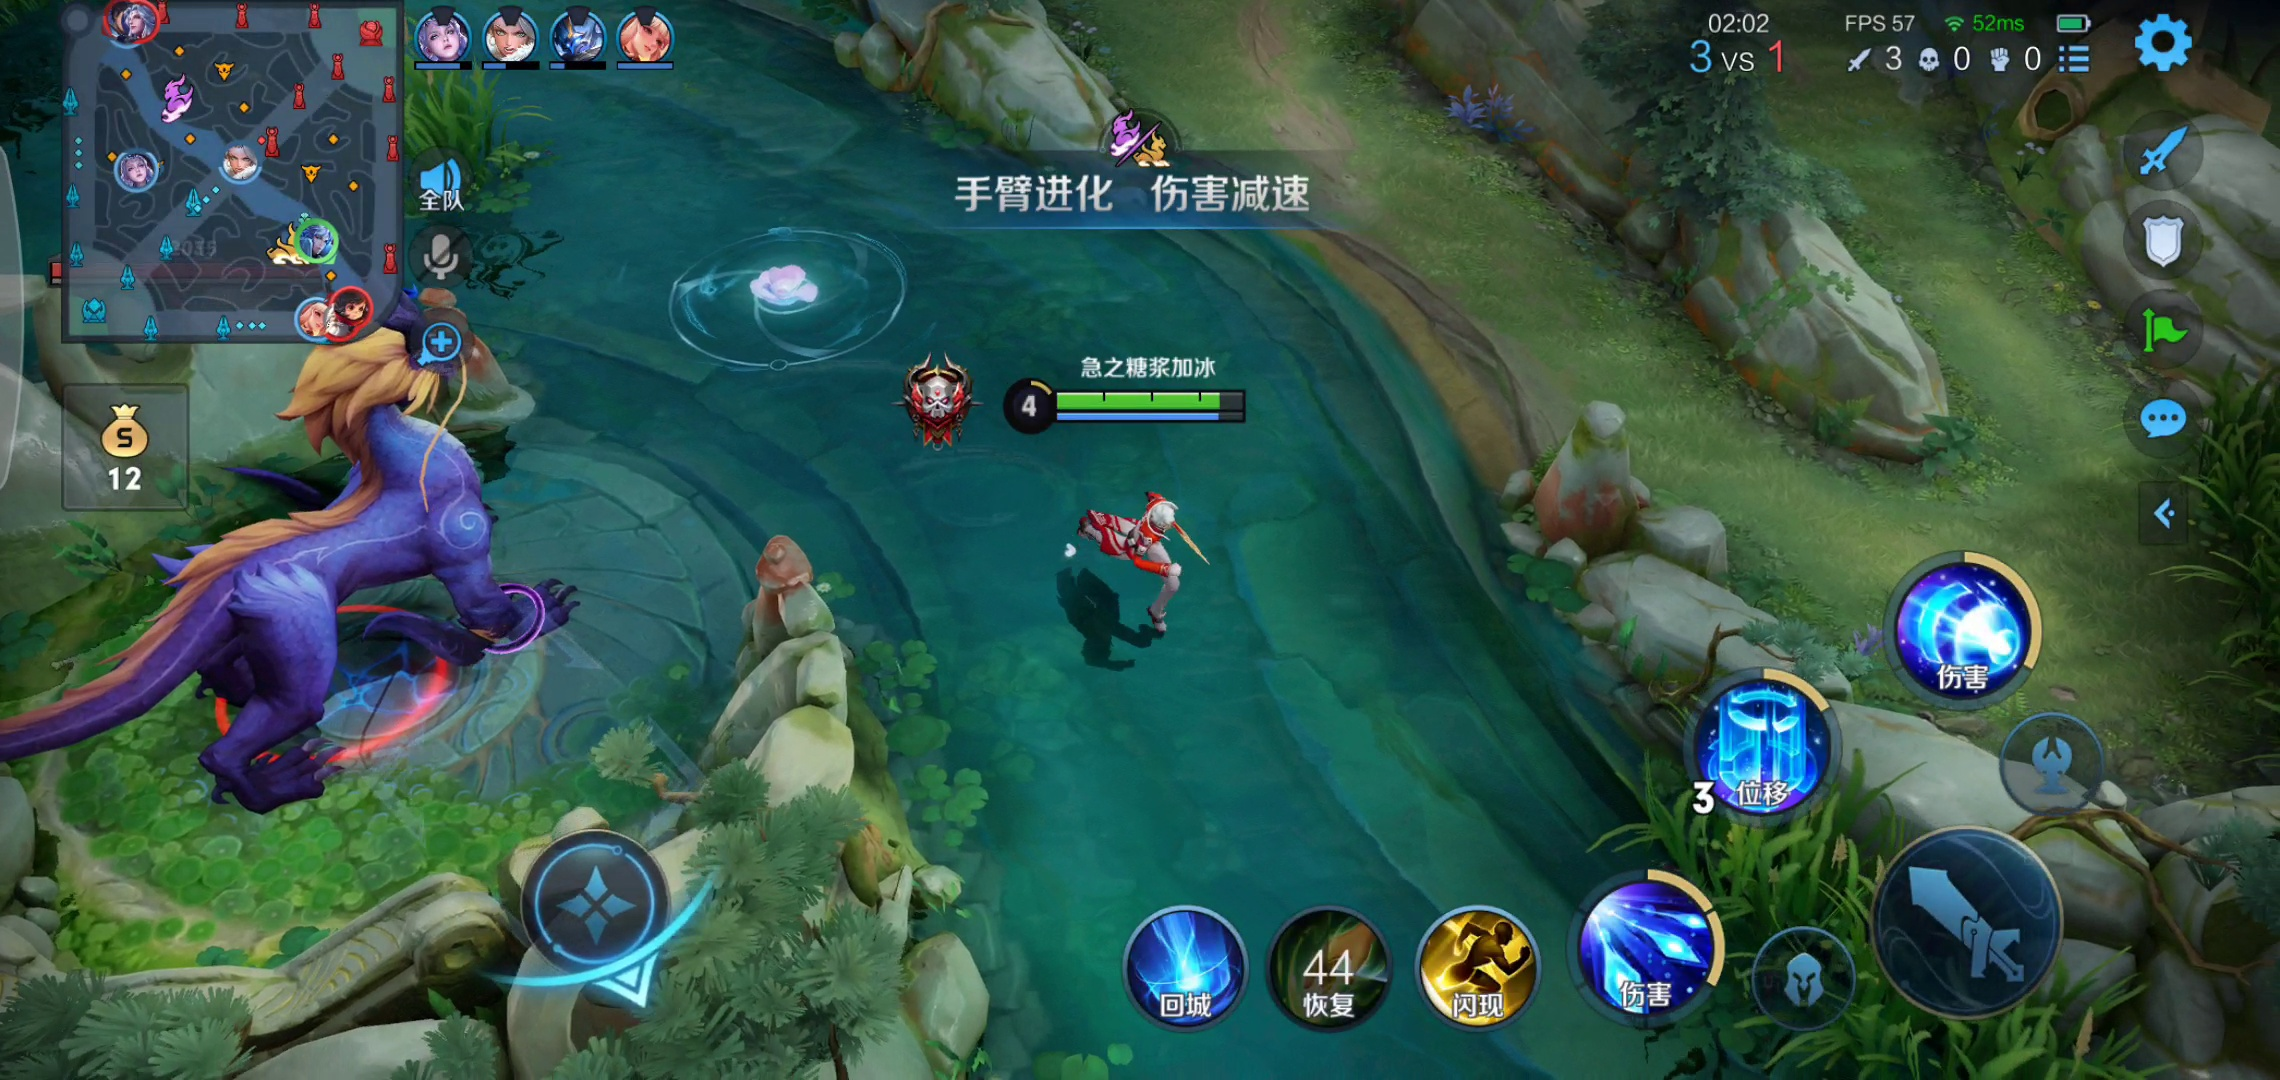dragon: (28, 286, 603, 842)
grass: (1636, 760, 2092, 1080), (2146, 388, 2279, 775), (401, 47, 564, 230)
hero: (1045, 472, 1249, 644)
